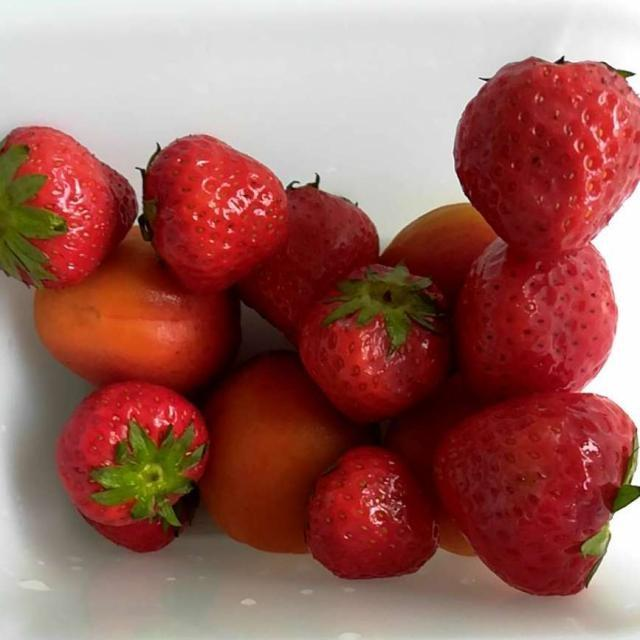apricots: (54, 227, 478, 563)
strawberries: (5, 45, 635, 597)
tomato: (382, 197, 488, 315)
